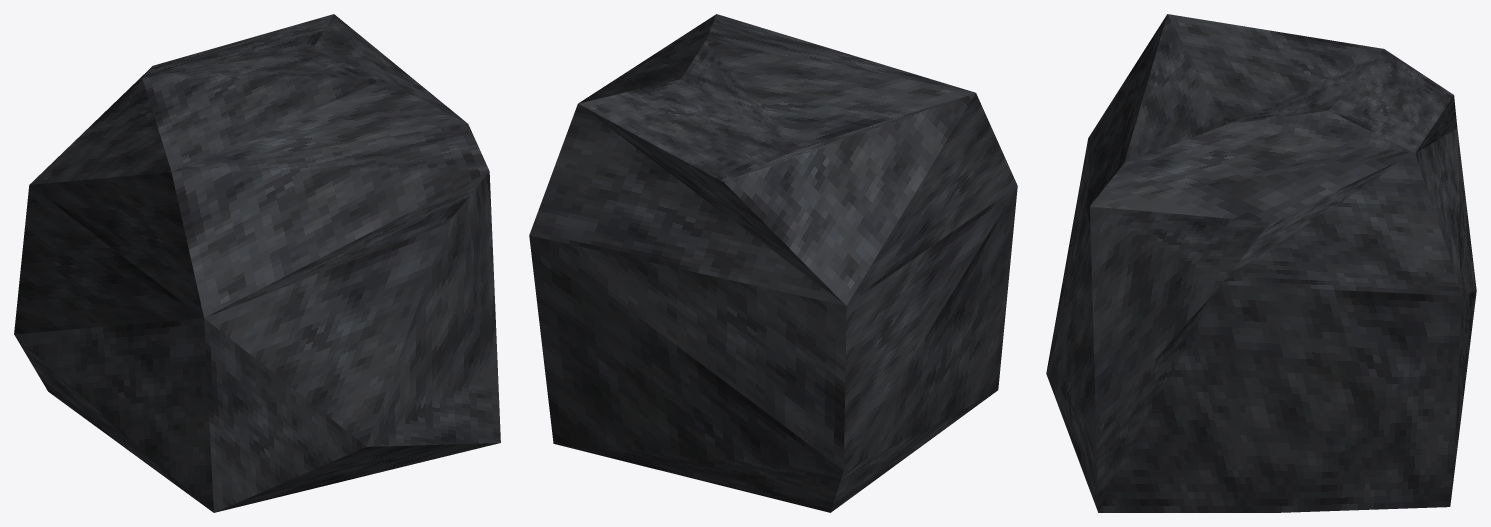
The model's file is stone_D.gltf.
3 renders of one model, left to right at view 1: azimuth 30°, elevation 25°; view 2: azimuth 150°, elevation 25°; view 3: azimuth 270°, elevation 25°, orthographic. The views are drawn at different scales.
Visible parts, largest first — view 1: Stones; view 2: Stones; view 3: Stones.
Part boxes in pixels (left/top/right/bottom): Stones: left=14, top=14, right=500, bottom=512; Stones: left=529, top=14, right=1017, bottom=512; Stones: left=1046, top=14, right=1476, bottom=512.
Size of the model in its own units: 1.06 by 1 by 1.09.
Materials: 1 (1 with a texture image).
